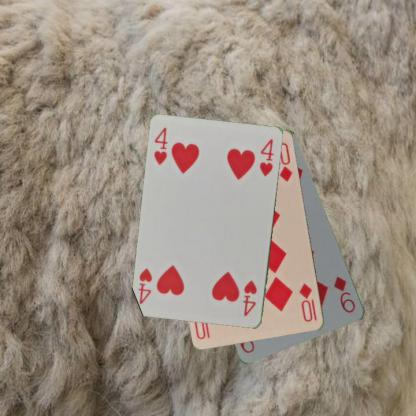10d: (297, 280, 314, 324)
4h: (240, 278, 259, 318), (151, 126, 169, 166)
9d: (331, 274, 357, 314)
